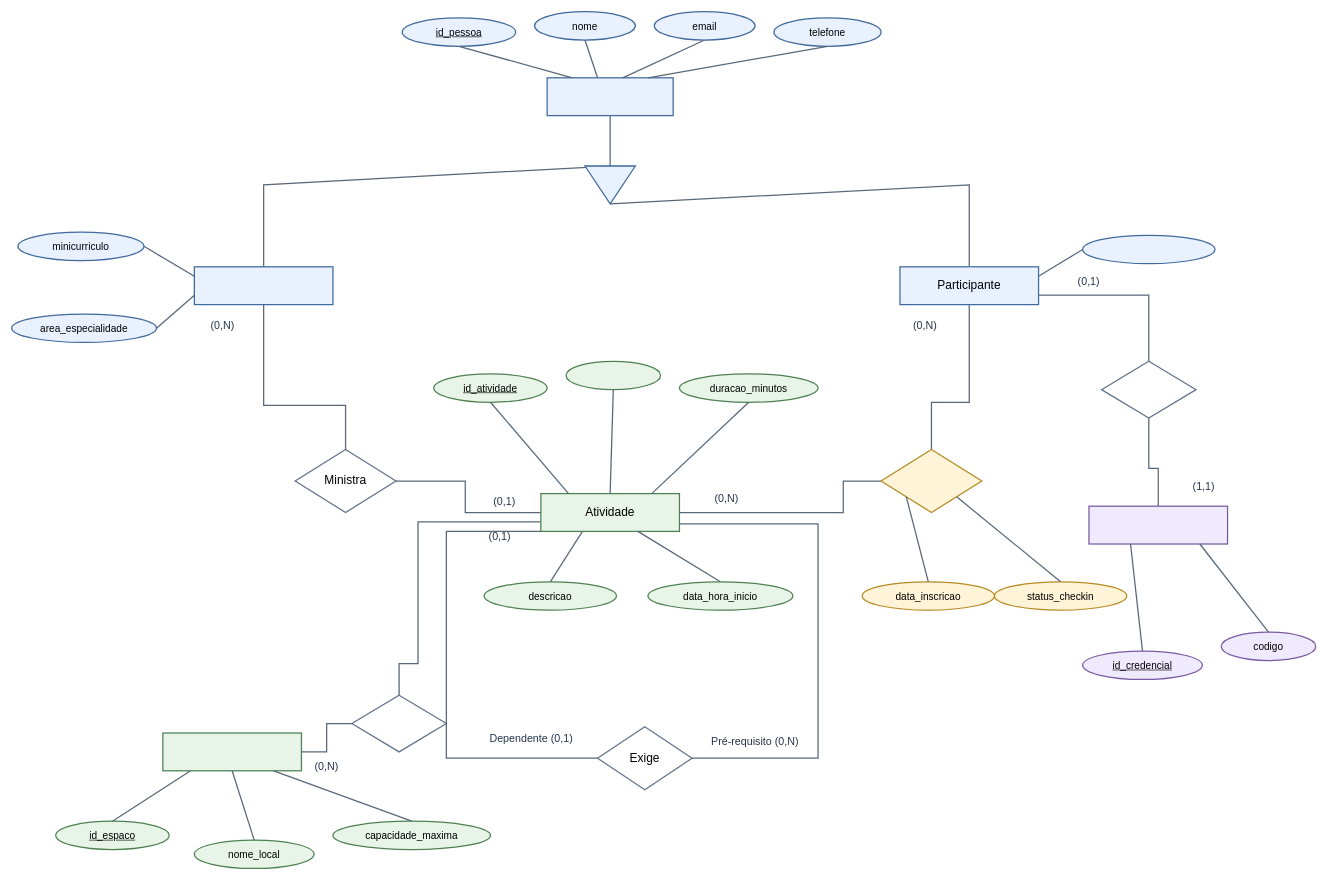
Image size: 1327x879. Some labels were removed from this diagram. The shapes that lost their labels are listed below. From the top down, each one's centre as x and y in pixels, then its label:
point 609,96: Pessoa
point 610,184: ISA
point 1148,249: tipo_ingresso
point 263,285: Palestrante
point 613,375: titulo
point 1148,389: Possui
point 931,481: Inscrição
point 1158,524: Credencial
point 399,723: Sedia
point 232,751: Espaço
